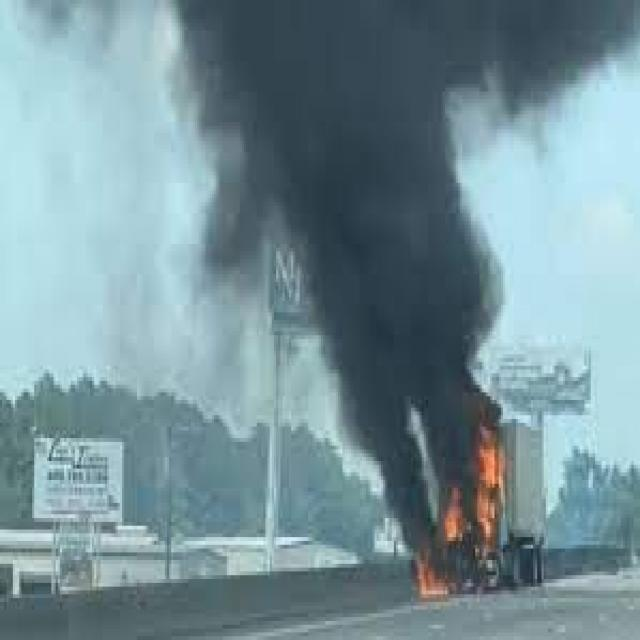fire: (469, 426, 509, 544), (445, 480, 465, 552), (413, 568, 452, 598)
smoke: (169, 4, 640, 423), (338, 388, 443, 564)
